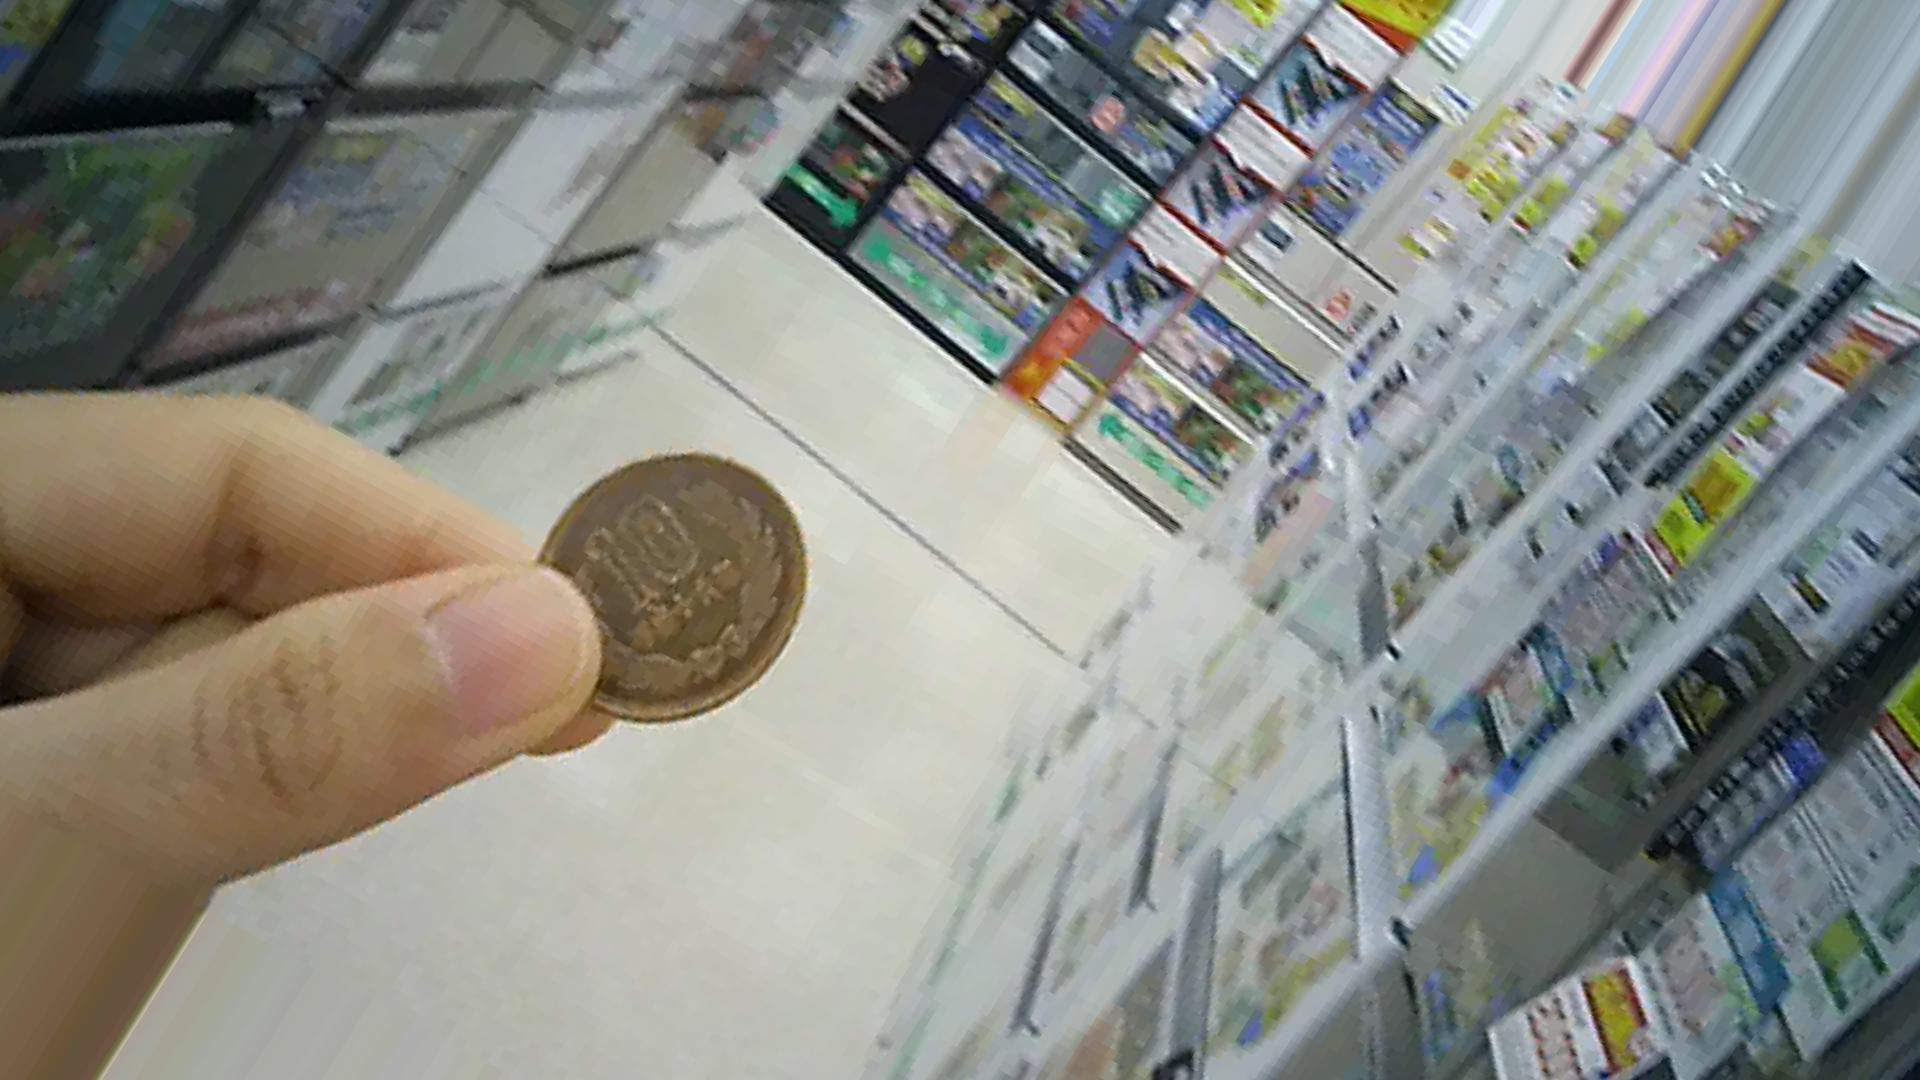10 Yen: (522, 450, 808, 729)
